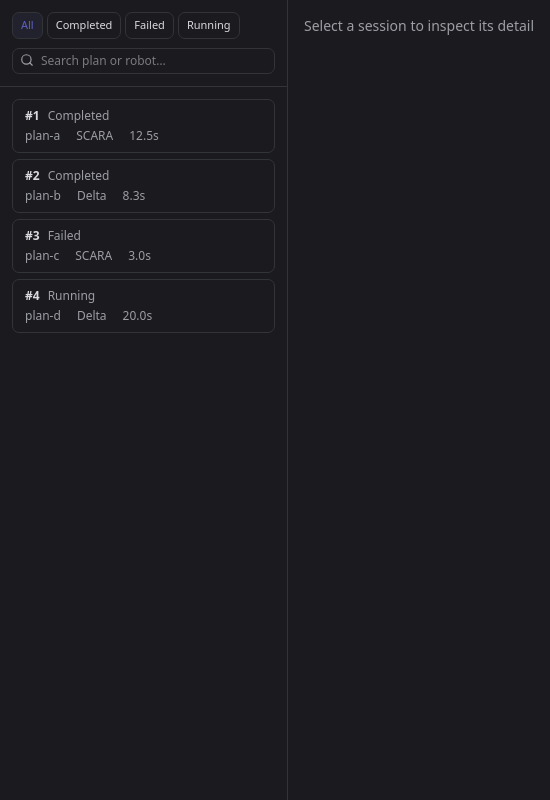
Scenario: SessionBrowser — presentation-only filters and search (C3) › searches robot_name case-insensitively
The image size is (550, 800).
Type "scara" into the search field labelled "Search plan or robot…" at (144, 60), box [12,48,275,74]
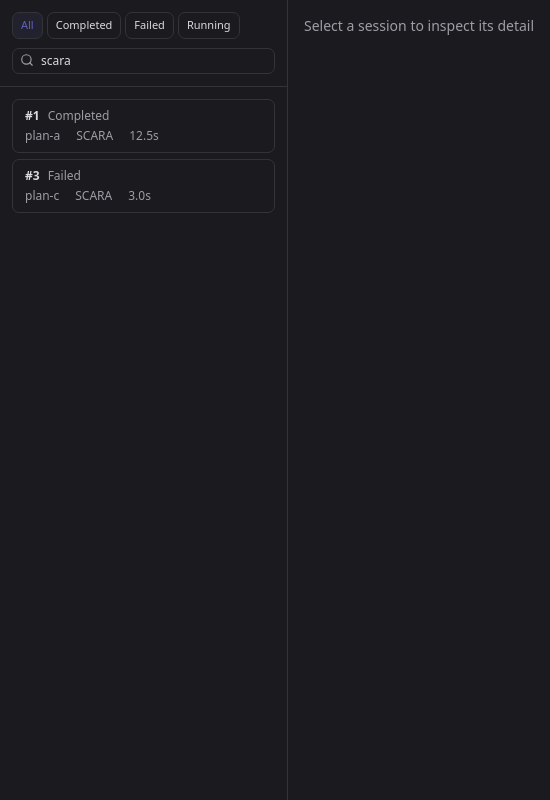
Expected: the text "#1" is shown, [25,108,40,124]
Expected: the number of list items is 2, [12,98,275,152]; [12,158,275,212]
Expected: the button "#2" is gone
